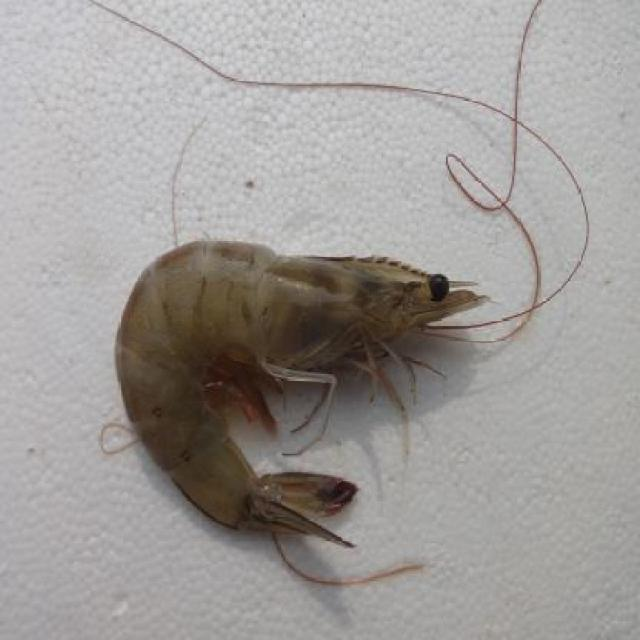shrimp: (106, 221, 511, 555)
